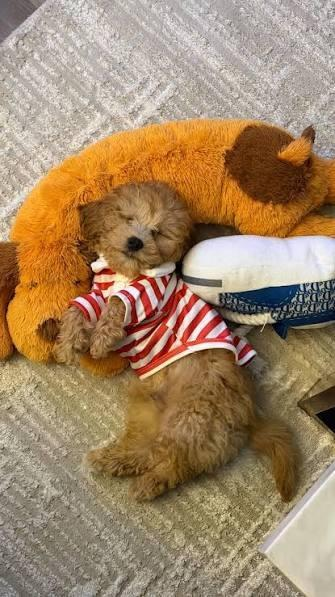puppy-dog: (40, 181, 302, 510)
